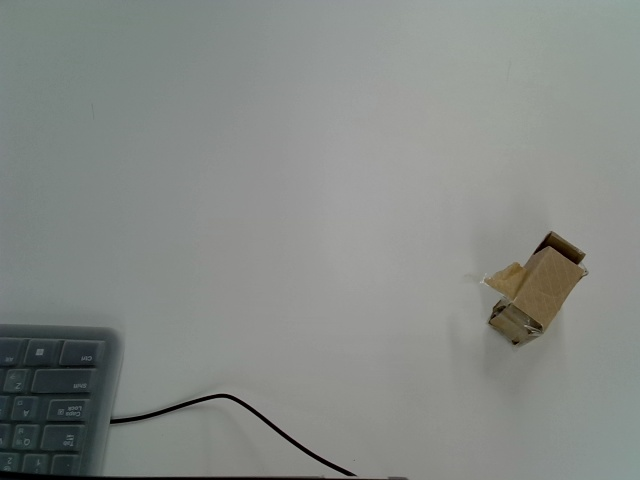defect: (458, 231, 589, 348)
